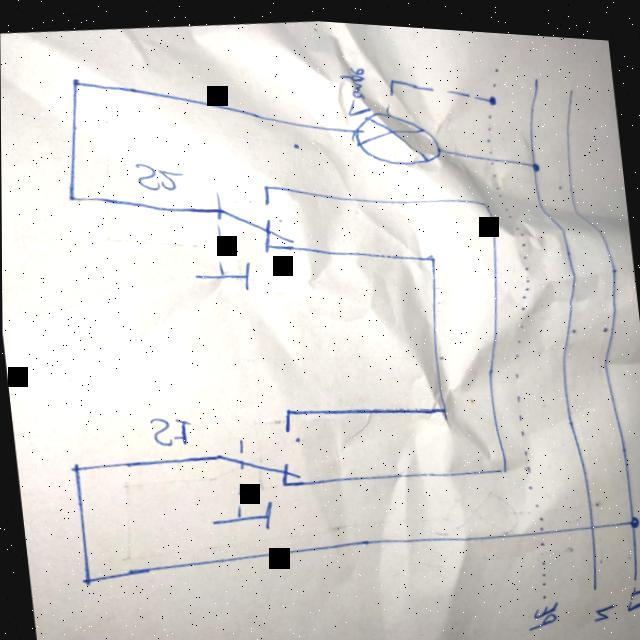crossover: (536, 516, 551, 532), (482, 144, 497, 159), (587, 514, 598, 523)
junction: (77, 571, 98, 588), (67, 73, 86, 90), (435, 395, 452, 412), (65, 189, 82, 204), (68, 459, 85, 474), (485, 84, 500, 100), (626, 505, 640, 522), (528, 152, 543, 165), (262, 237, 275, 251), (478, 191, 493, 203), (260, 178, 274, 188), (426, 247, 439, 257), (282, 403, 295, 413), (387, 70, 400, 80), (498, 458, 509, 468), (280, 475, 291, 484)
switch: (183, 178, 302, 297), (199, 418, 312, 534)
terminal: (490, 55, 505, 67), (531, 66, 544, 78), (589, 575, 600, 585), (567, 77, 578, 87), (630, 564, 640, 574), (540, 585, 549, 592)
text: (132, 155, 188, 193), (145, 408, 194, 448), (339, 59, 374, 114), (524, 590, 563, 626), (608, 573, 640, 606), (590, 592, 618, 615)
